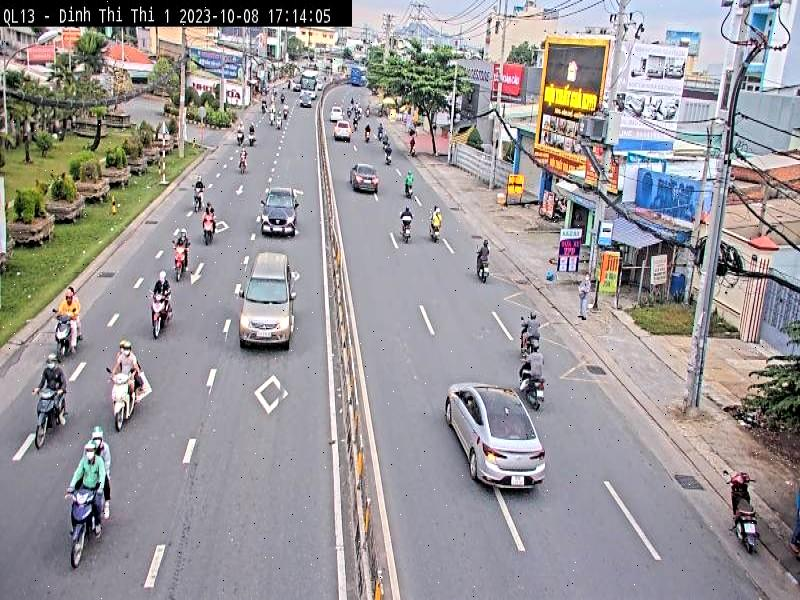car: (444, 377, 547, 496), (239, 248, 295, 354), (260, 182, 297, 245), (350, 162, 381, 198), (334, 119, 354, 143)
motorcycle: (722, 461, 761, 552), (69, 474, 104, 572), (30, 381, 66, 453), (108, 362, 140, 436), (517, 358, 548, 412), (53, 311, 77, 362), (148, 292, 170, 341), (173, 245, 188, 283), (474, 257, 490, 285)
